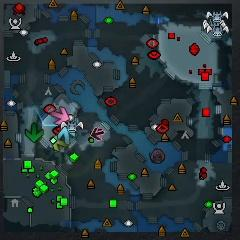x1: (52, 107, 69, 125)
x1Clone: (91, 127, 104, 141)
x2: (51, 136, 68, 151)
x3: (58, 127, 77, 145)
x4: (25, 123, 44, 143)
